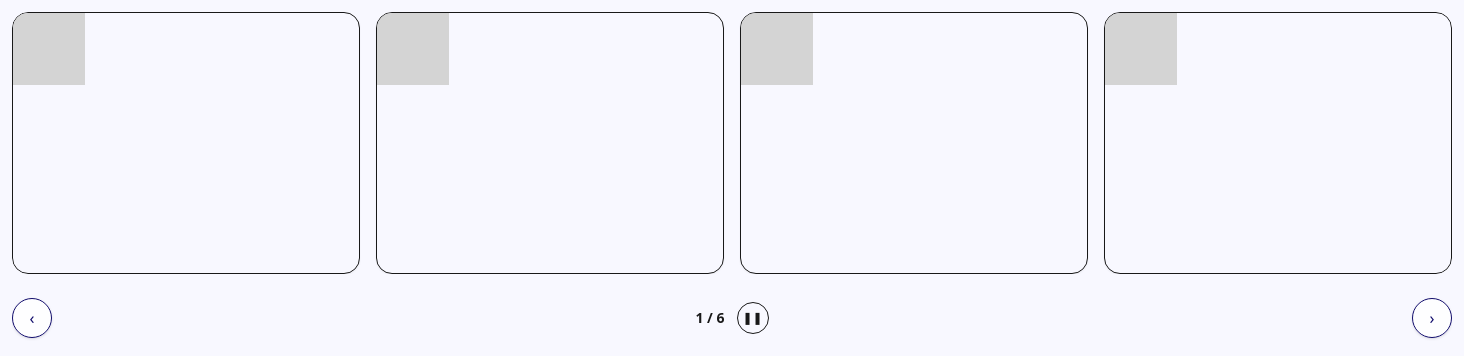
Carousel › lets the visitor pause and resume the slideshow
The image size is (1464, 356).
Click the button named "Pausar apresentação". click: (752, 318)
box: [736, 302, 768, 334]
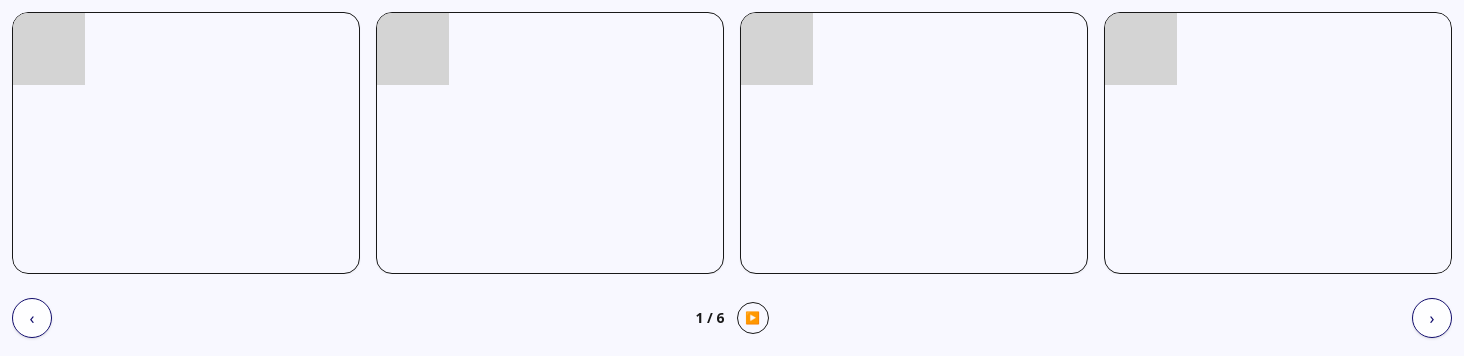
Click the button named "Retomar apresentação". click: (752, 318)
box: [736, 302, 768, 334]
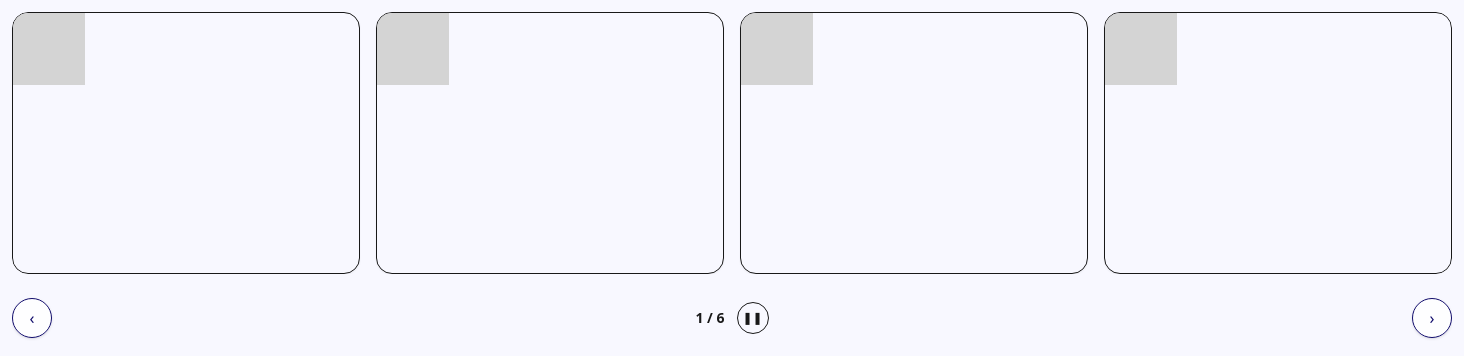
Check: the button named "Pausar apresentação" is shown, box [736, 302, 768, 334]
